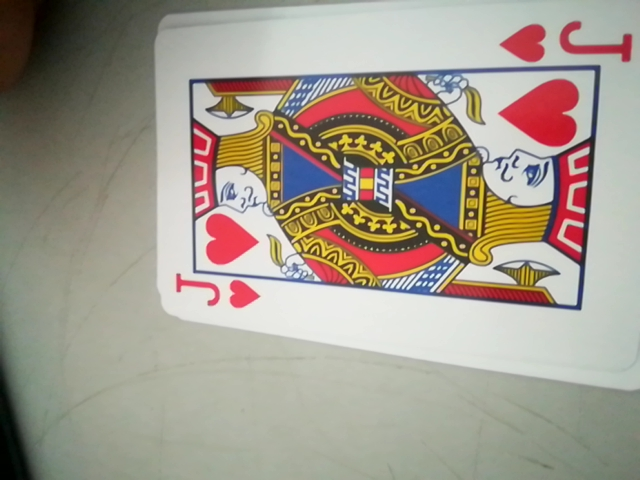hx j: (501, 16, 637, 68), (167, 269, 266, 318)
